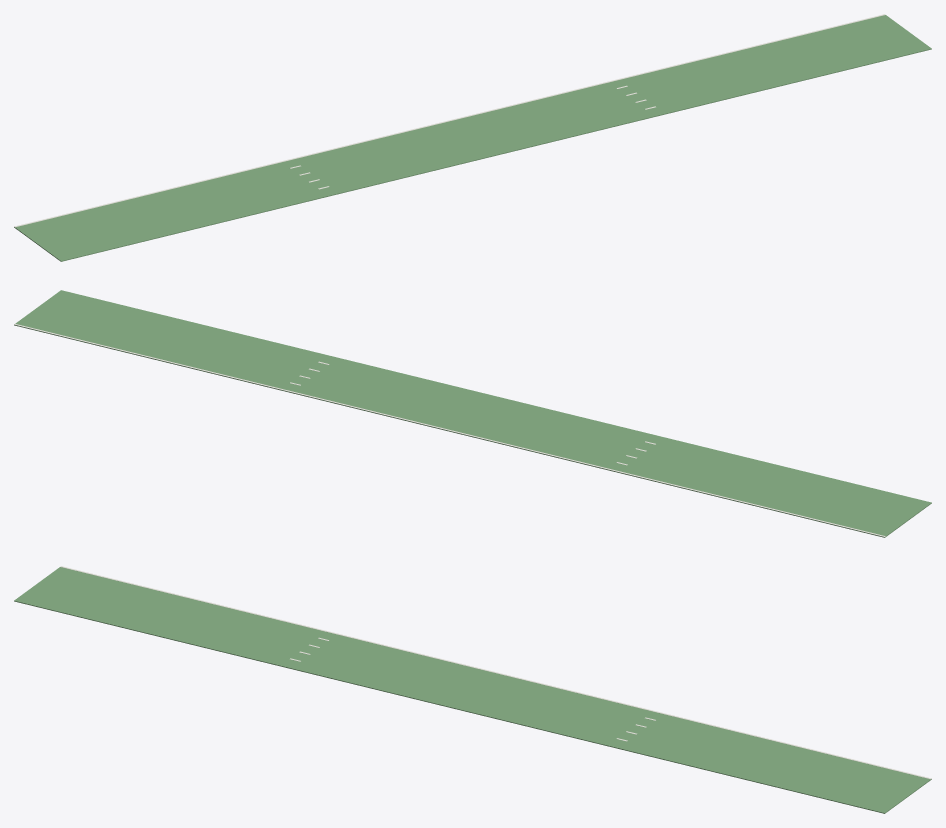
Rendered from american-football-stadium-kit-five-yard-module-2edbd8d3__22322.glb.
3 views of the same model, one above another, from view 1: azimuth 30°, elevation 25°; view 2: azimuth 150°, elevation 25°; view 3: azimuth 330°, elevation 25° (orthographic).
Parts seen in each view (by area): view 1: five-yard-module; view 2: five-yard-module; view 3: five-yard-module.
Boxes of the visible parts, x1,y1,x2,y2 form: five-yard-module: (14,14,931,261); five-yard-module: (14,290,931,537); five-yard-module: (14,566,931,813).
Bounding box in the file's own units: 48.77 × 0.0468 × 4.57.
